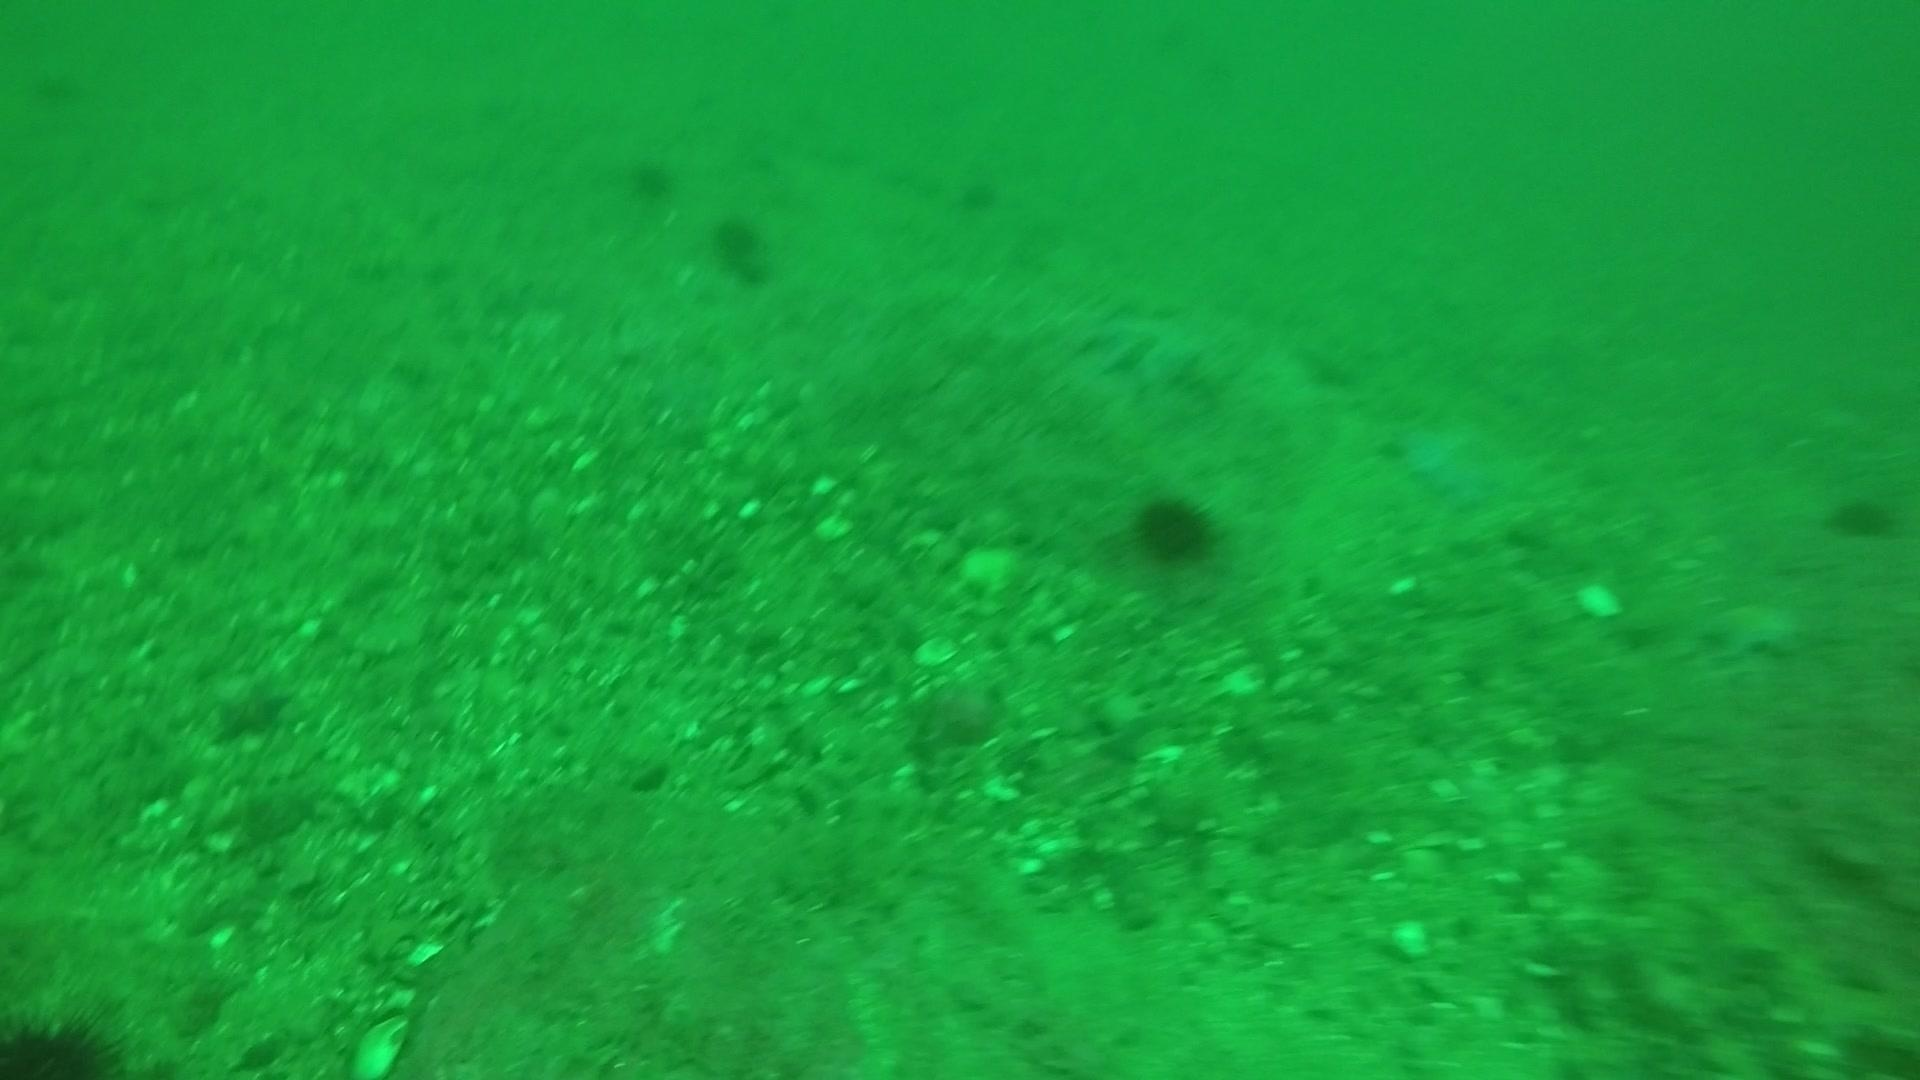echinus: (1, 1005, 131, 1073), (1126, 487, 1222, 568), (705, 208, 775, 284), (1822, 487, 1899, 543), (622, 152, 679, 204), (952, 170, 1004, 218)
starfish: (1077, 303, 1211, 400), (1393, 415, 1520, 514), (1698, 592, 1805, 665), (204, 667, 295, 746)
